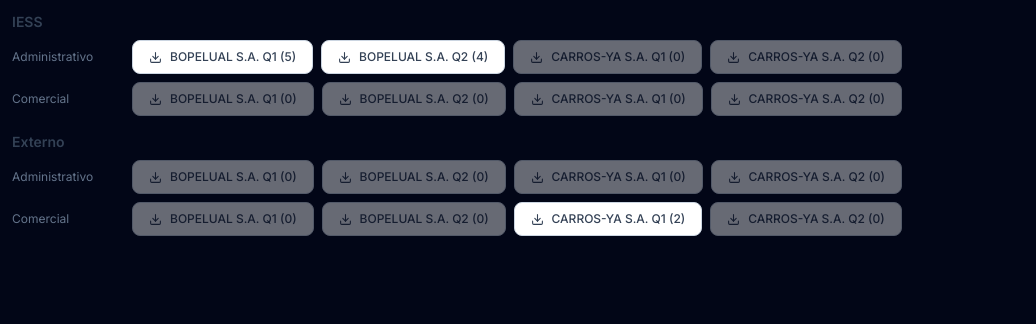
Scenario: ExportarTxtMatriz › muestra los warnings devueltos por el servidor
The image size is (1036, 324).
Click the button "BOPELUAL S.A. Q1 (5)" at (223, 57), box [132,40,313,74]
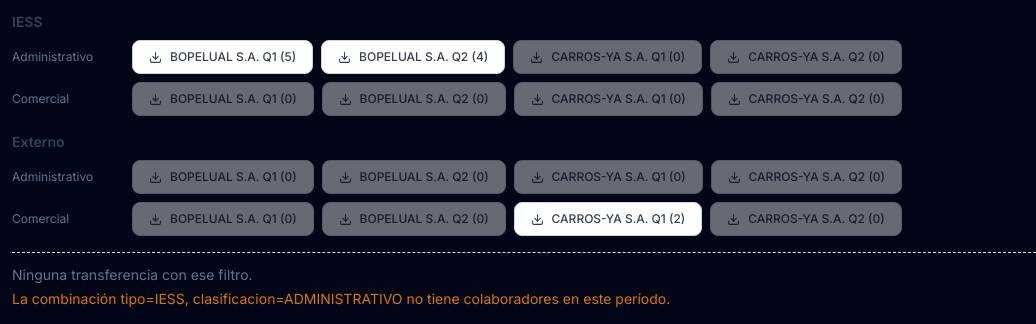
Now the text "no tiene colaboradores en este período" is shown, box [12,290,670,307]
